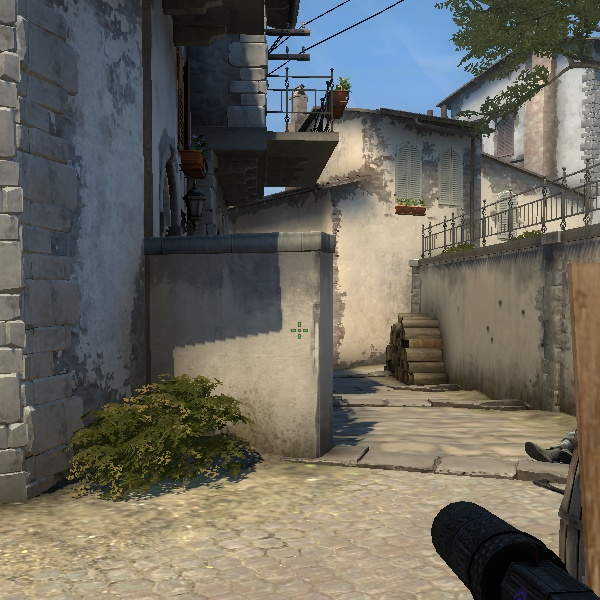ct_body: (376, 314, 419, 387)
